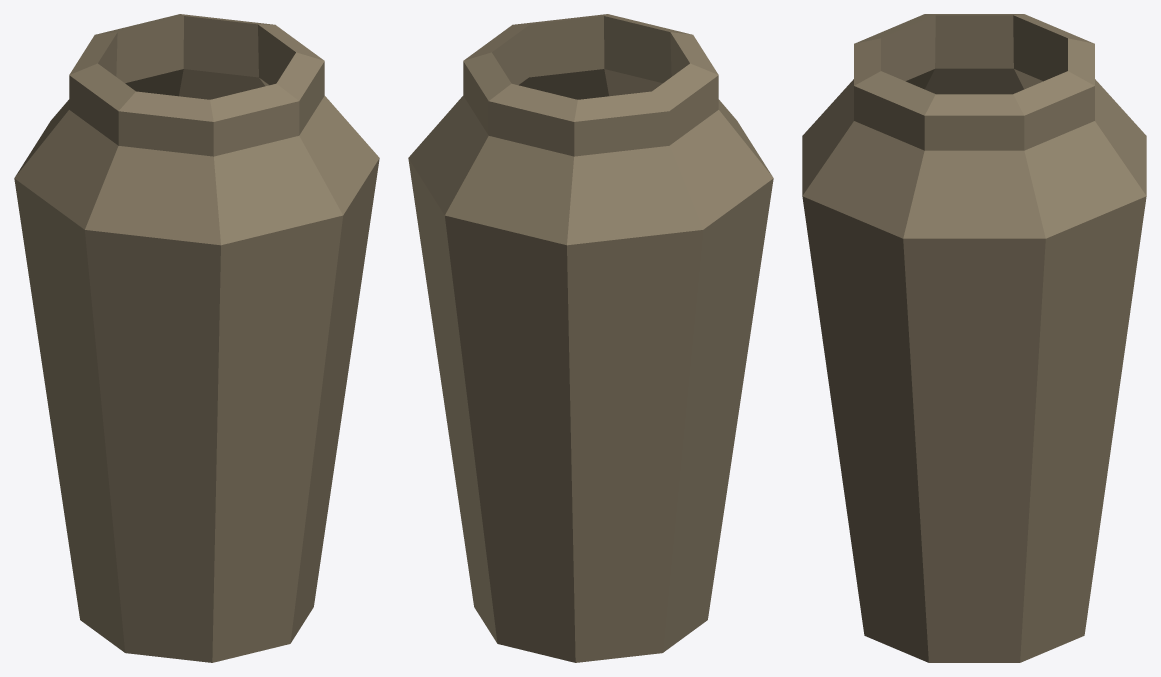
File: Pot_2.fbx
3 views of the same model, side by side, from view 1: azimuth 30°, elevation 25°; view 2: azimuth 150°, elevation 25°; view 3: azimuth 270°, elevation 25° (orthographic).
Visible parts, largest first — view 1: Pot_2; view 2: Pot_2; view 3: Pot_2.
Boxes of the visible parts, x1,y1,x2,y2 form: Pot_2: [14, 14, 379, 662]; Pot_2: [408, 14, 773, 662]; Pot_2: [802, 14, 1146, 662].
Size of the model in its own units: 16.42 by 29.57 by 16.42.
